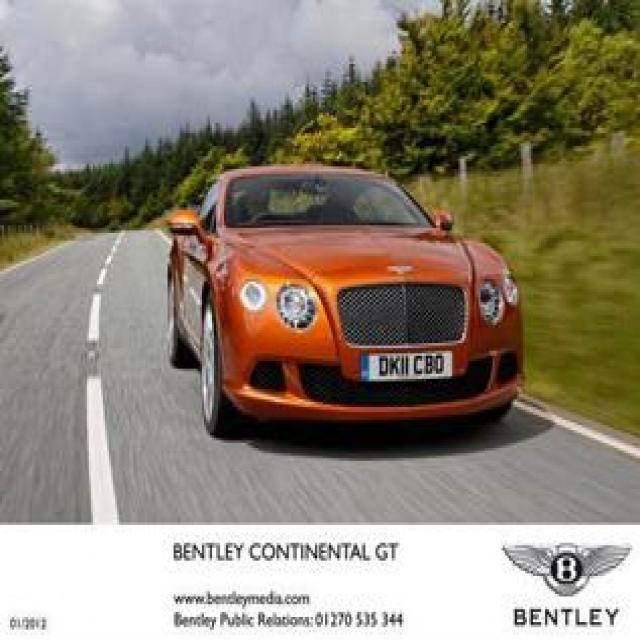Car: (129, 114, 523, 429)
